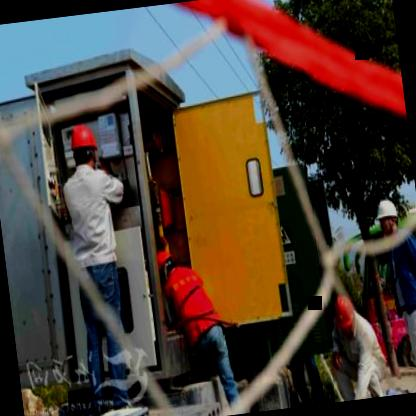helmet: (63, 122, 102, 172), (330, 292, 362, 342), (372, 195, 402, 239), (149, 245, 181, 284)
